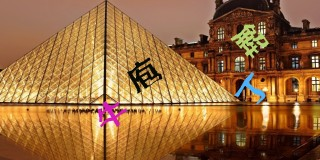丁: (234, 70, 266, 104)
庖: (125, 55, 164, 93)
牛: (96, 99, 126, 127)
解: (231, 22, 269, 59)
